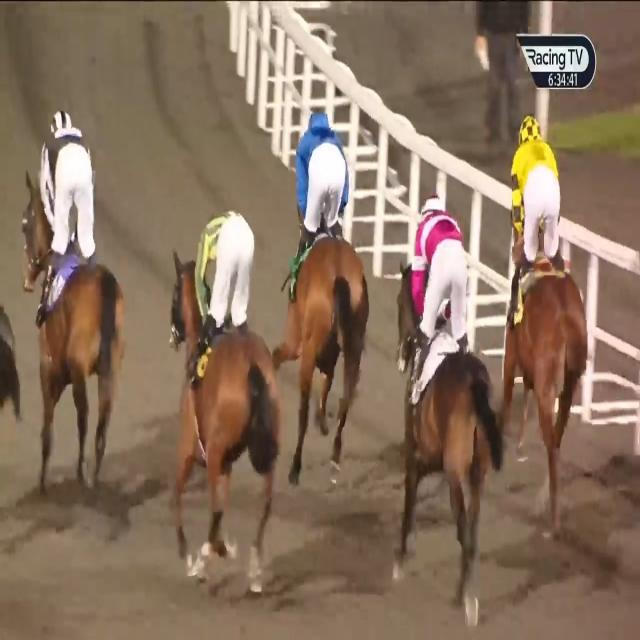horses-racing: (160, 204, 290, 581), (392, 187, 504, 613), (15, 111, 136, 499), (503, 113, 595, 539), (281, 105, 366, 489)
